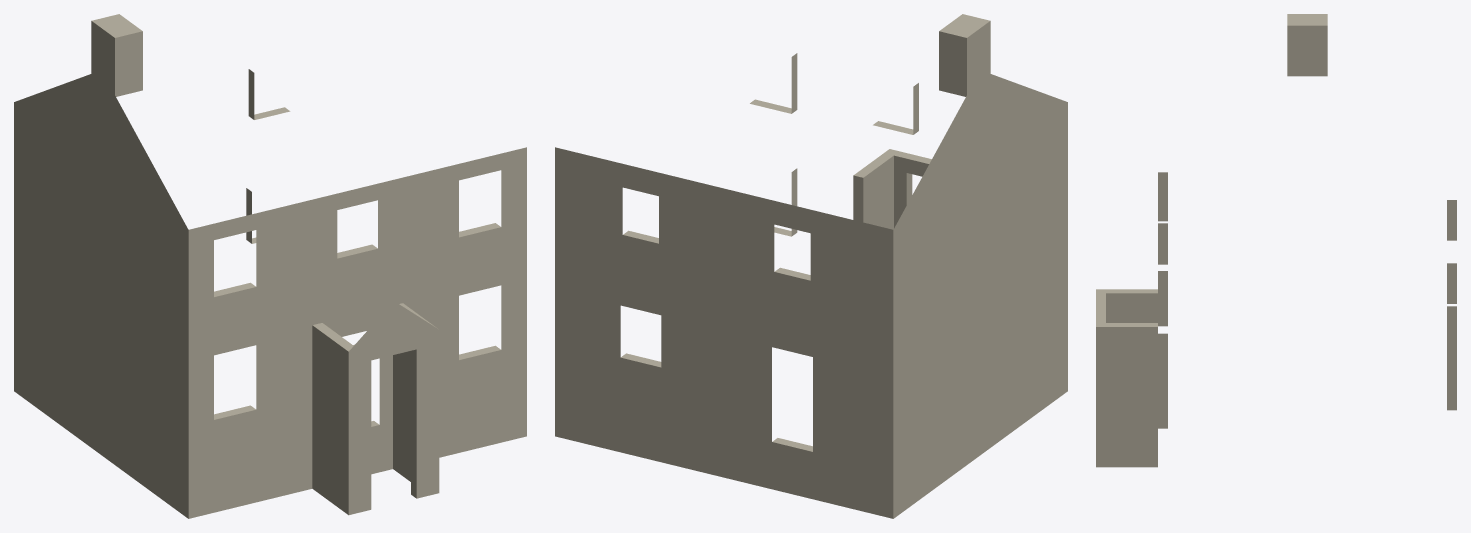
Rendered from SM_Bld_173_Render.glb.
The picture shows the model from 3 angles, left to right: view 1: azimuth 30°, elevation 25°; view 2: azimuth 150°, elevation 25°; view 3: azimuth 270°, elevation 25°; orthographic projection. The views are drawn at different scales.
Parts seen in each view (by area): view 1: SM_Bld_173_Render; view 2: SM_Bld_173_Render; view 3: SM_Bld_173_Render.
Boxes of the visible parts, box(x1,y1,x2,y2) form: SM_Bld_173_Render: box(14, 14, 526, 518); SM_Bld_173_Render: box(555, 14, 1067, 518); SM_Bld_173_Render: box(1096, 14, 1456, 467).
Size of the model in its own units: 7.47 by 8.97 by 8.06.
